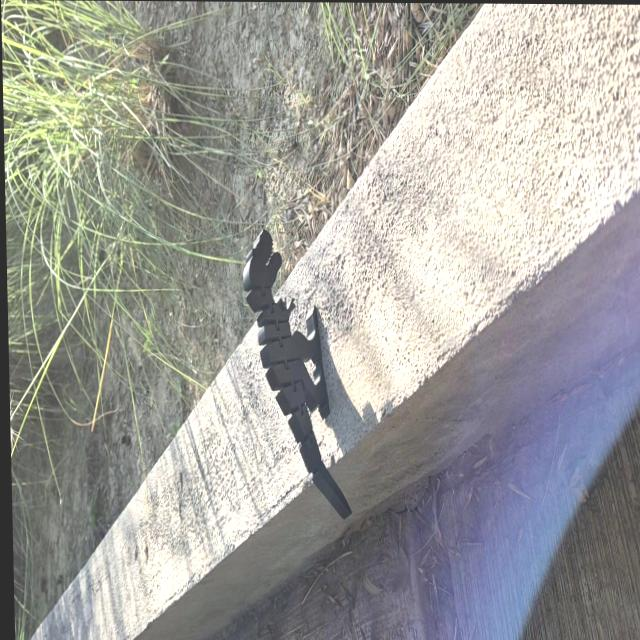dino: (240, 227, 353, 522)
